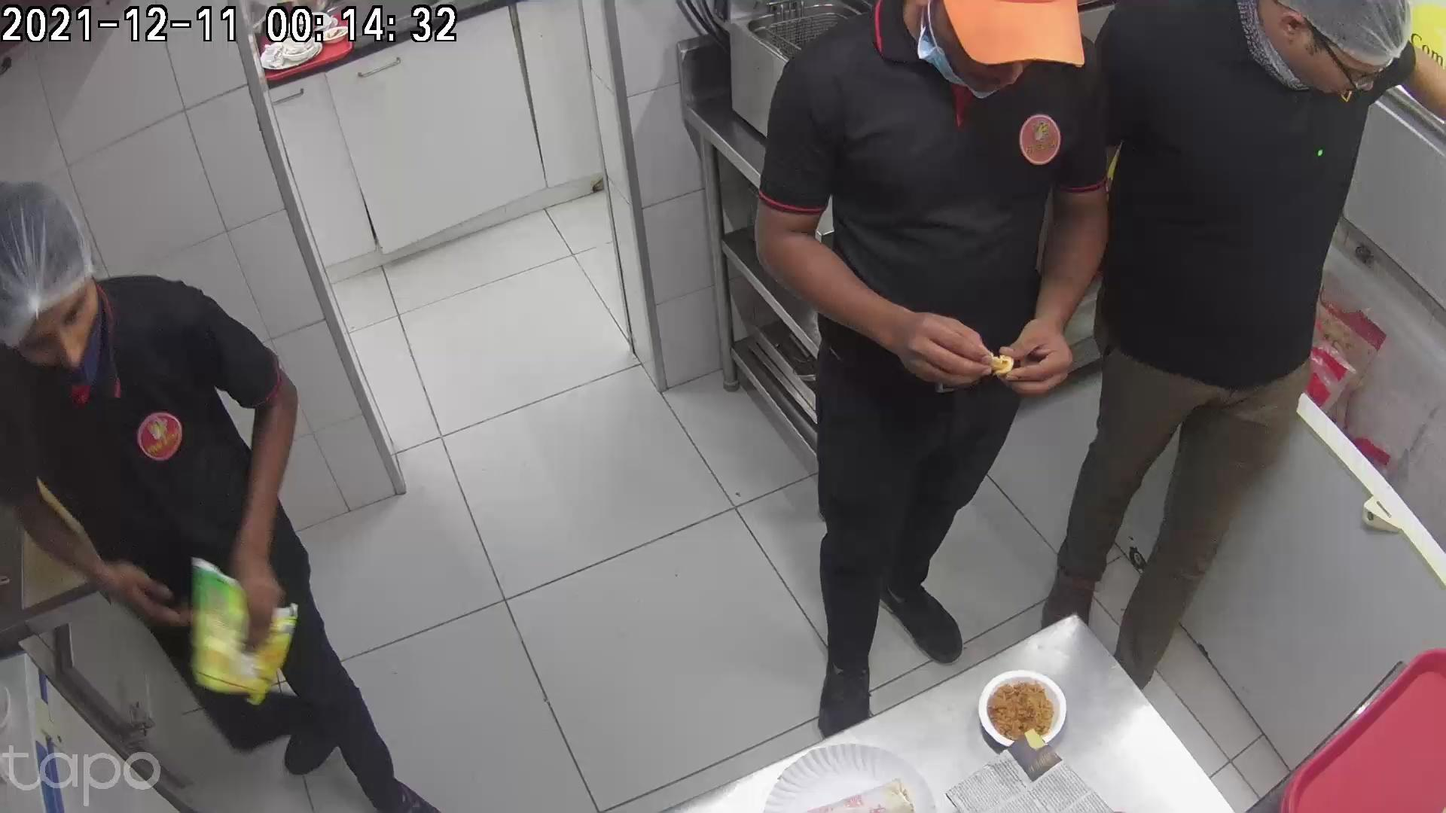gloves: (794, 657, 892, 811)
